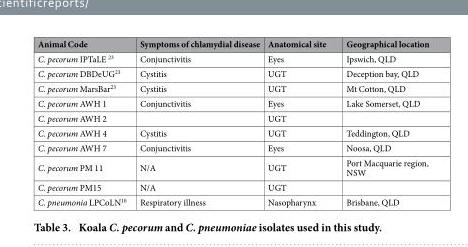table: (36, 37, 428, 207)
table column: (132, 37, 263, 207), (36, 37, 132, 207), (335, 37, 428, 207), (263, 37, 335, 207)
table column header: (36, 37, 428, 50)
table row: (36, 154, 428, 179), (36, 50, 428, 65), (36, 65, 428, 80), (36, 80, 428, 95), (36, 95, 428, 110), (36, 110, 428, 125), (36, 125, 428, 140), (36, 179, 428, 194), (36, 140, 428, 154), (36, 37, 428, 50), (36, 194, 428, 207)
